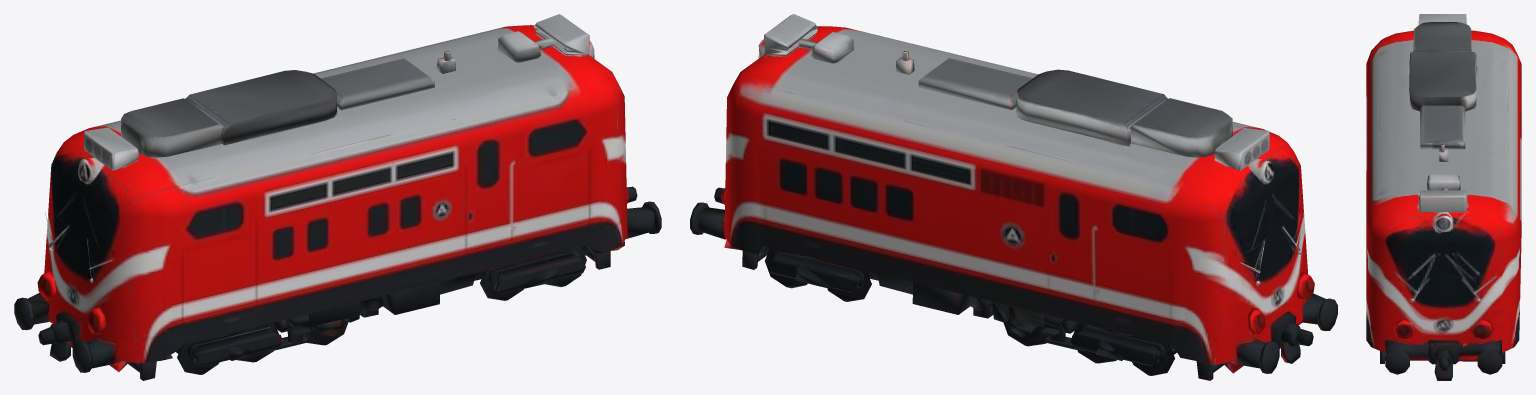
File: train_station.glb
The picture shows the model from 3 angles, left to right: view 1: azimuth 30°, elevation 25°; view 2: azimuth 150°, elevation 25°; view 3: azimuth 270°, elevation 25°; orthographic projection. The views are drawn at different scales.
Bounding box in the file's own units: 0.9575 × 0.3701 × 0.2744.
1 material, 1 textured.
